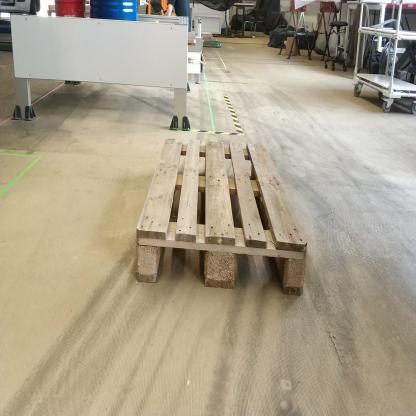BoxFace: (130, 137, 310, 296)
